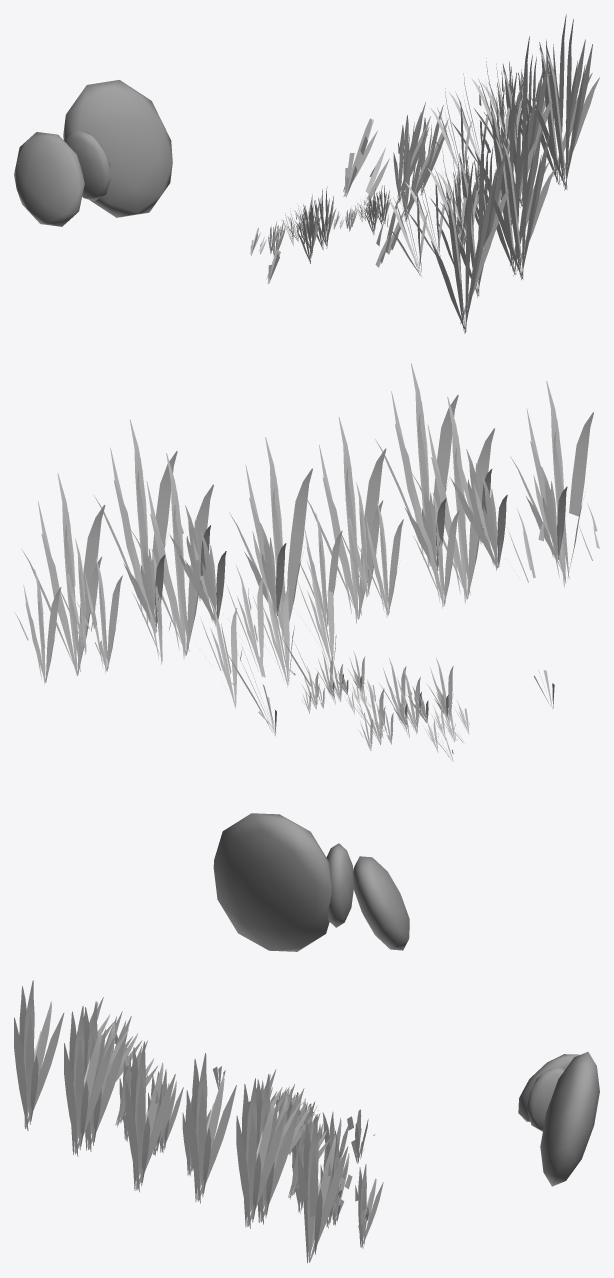
The model's file is extraAgian.glb.
3 views of the same model, one above another, from view 1: azimuth 30°, elevation 25°; view 2: azimuth 150°, elevation 25°; view 3: azimuth 270°, elevation 25° (orthographic). The views are drawn at different scales.
Parts seen in each view (by area): view 1: grass.004, OutRocks.013, OutRocks.014, OutRocks.015; view 2: grass.004, OutRocks.013, OutRocks.014, OutRocks.015; view 3: grass.004, OutRocks.013, OutRocks.015, OutRocks.014.
Boxes of the visible parts, x1,y1,x2,y2 form: grass.004: (250, 14, 599, 333); OutRocks.013: (63, 80, 172, 217); OutRocks.014: (14, 132, 84, 226); OutRocks.015: (64, 130, 110, 200); grass.004: (14, 363, 599, 761); OutRocks.013: (213, 813, 331, 951); OutRocks.014: (353, 856, 409, 950); OutRocks.015: (326, 843, 353, 927); grass.004: (14, 980, 383, 1263); OutRocks.013: (540, 1052, 599, 1186); OutRocks.015: (527, 1067, 564, 1131); OutRocks.014: (518, 1054, 579, 1121).
Bounding box in the file's own units: 16.13 × 8.96 × 19.88.
2 materials, 1 textured.
